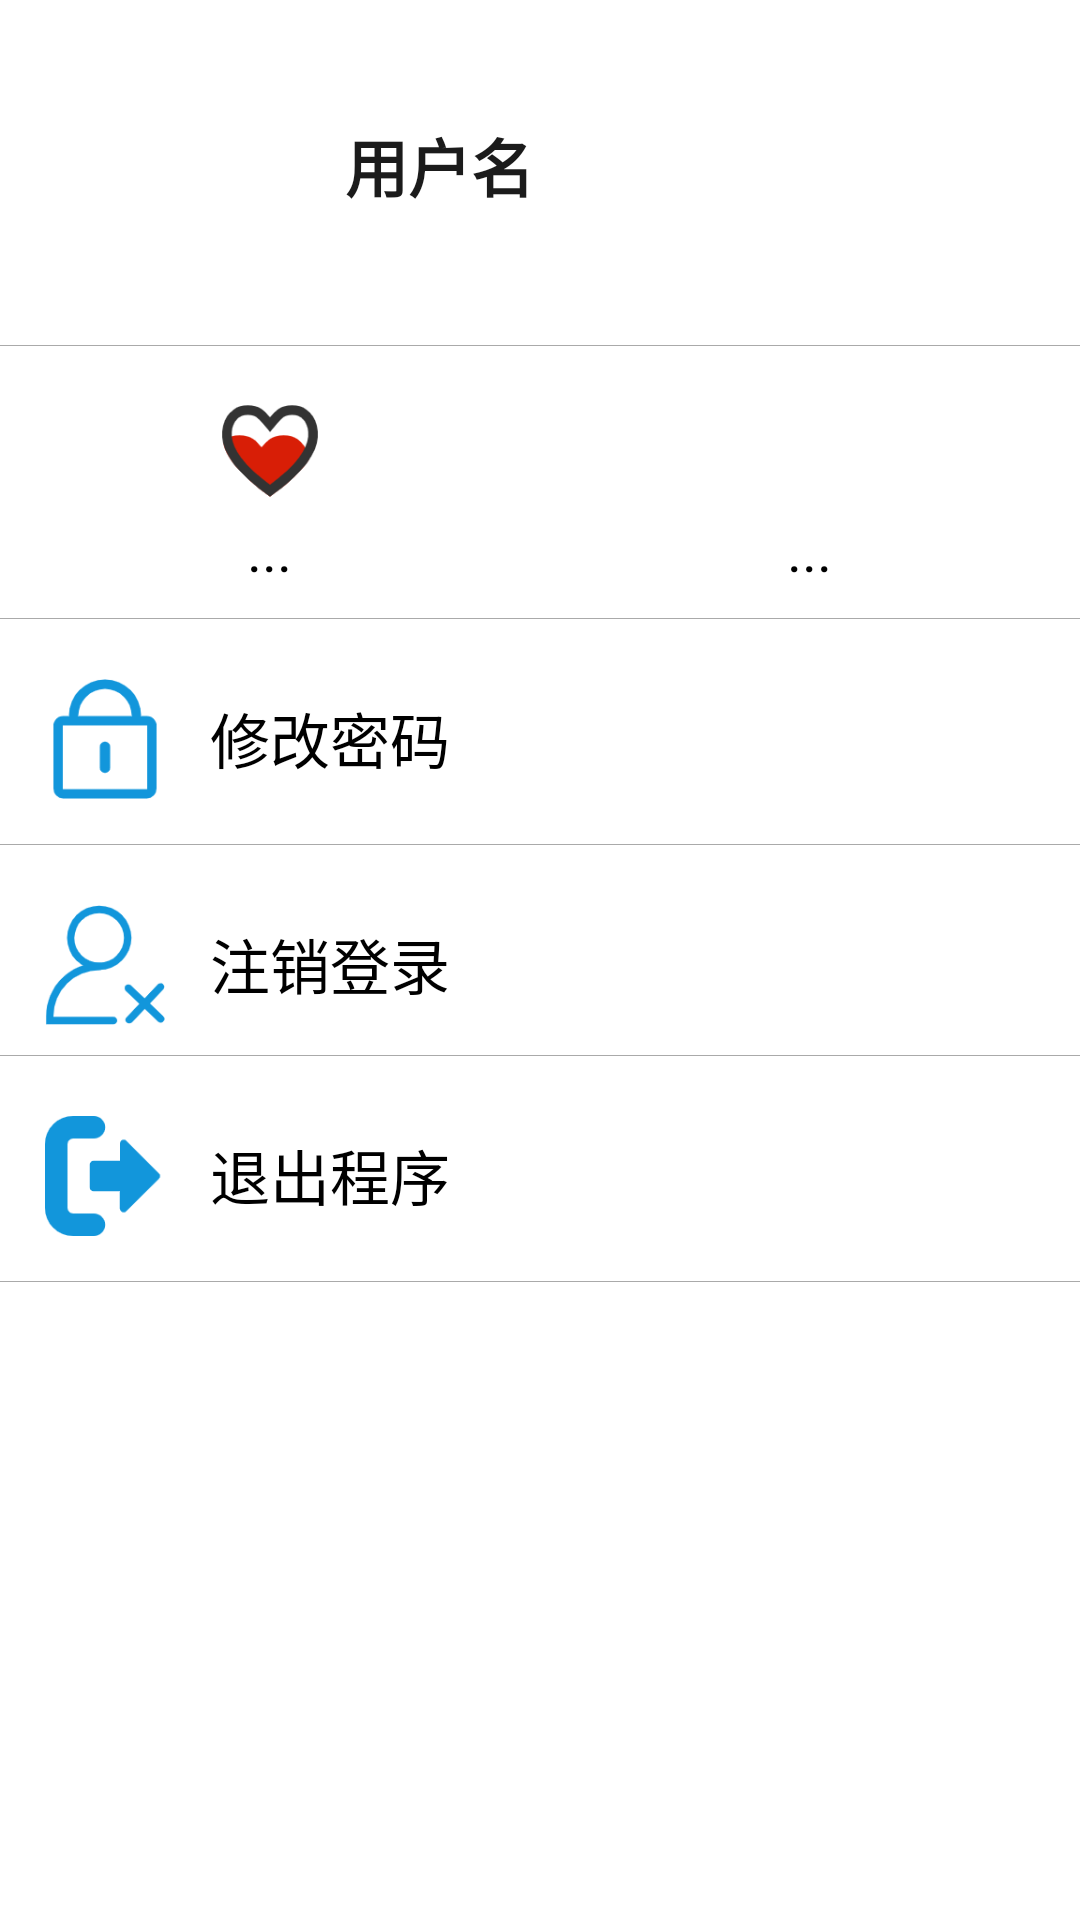

Where icons sit on this 1080 x 1920 app screen, as (x1=x1, y1=y1, x2=x2, y2=y2):
exit: (x1=45, y1=1116, x2=161, y2=1236)
follow: (x1=222, y1=405, x2=318, y2=497)
password: (x1=53, y1=679, x2=157, y2=799)
signout: (x1=46, y1=905, x2=165, y2=1025)
